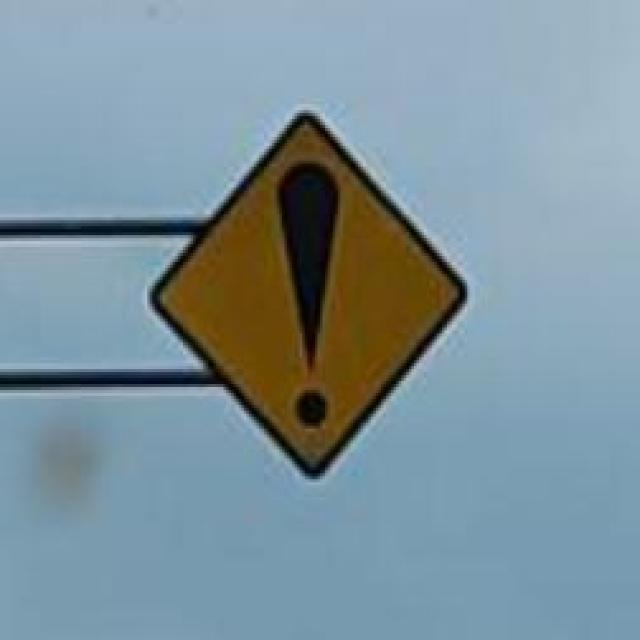traffic sign: (153, 116, 463, 470)
